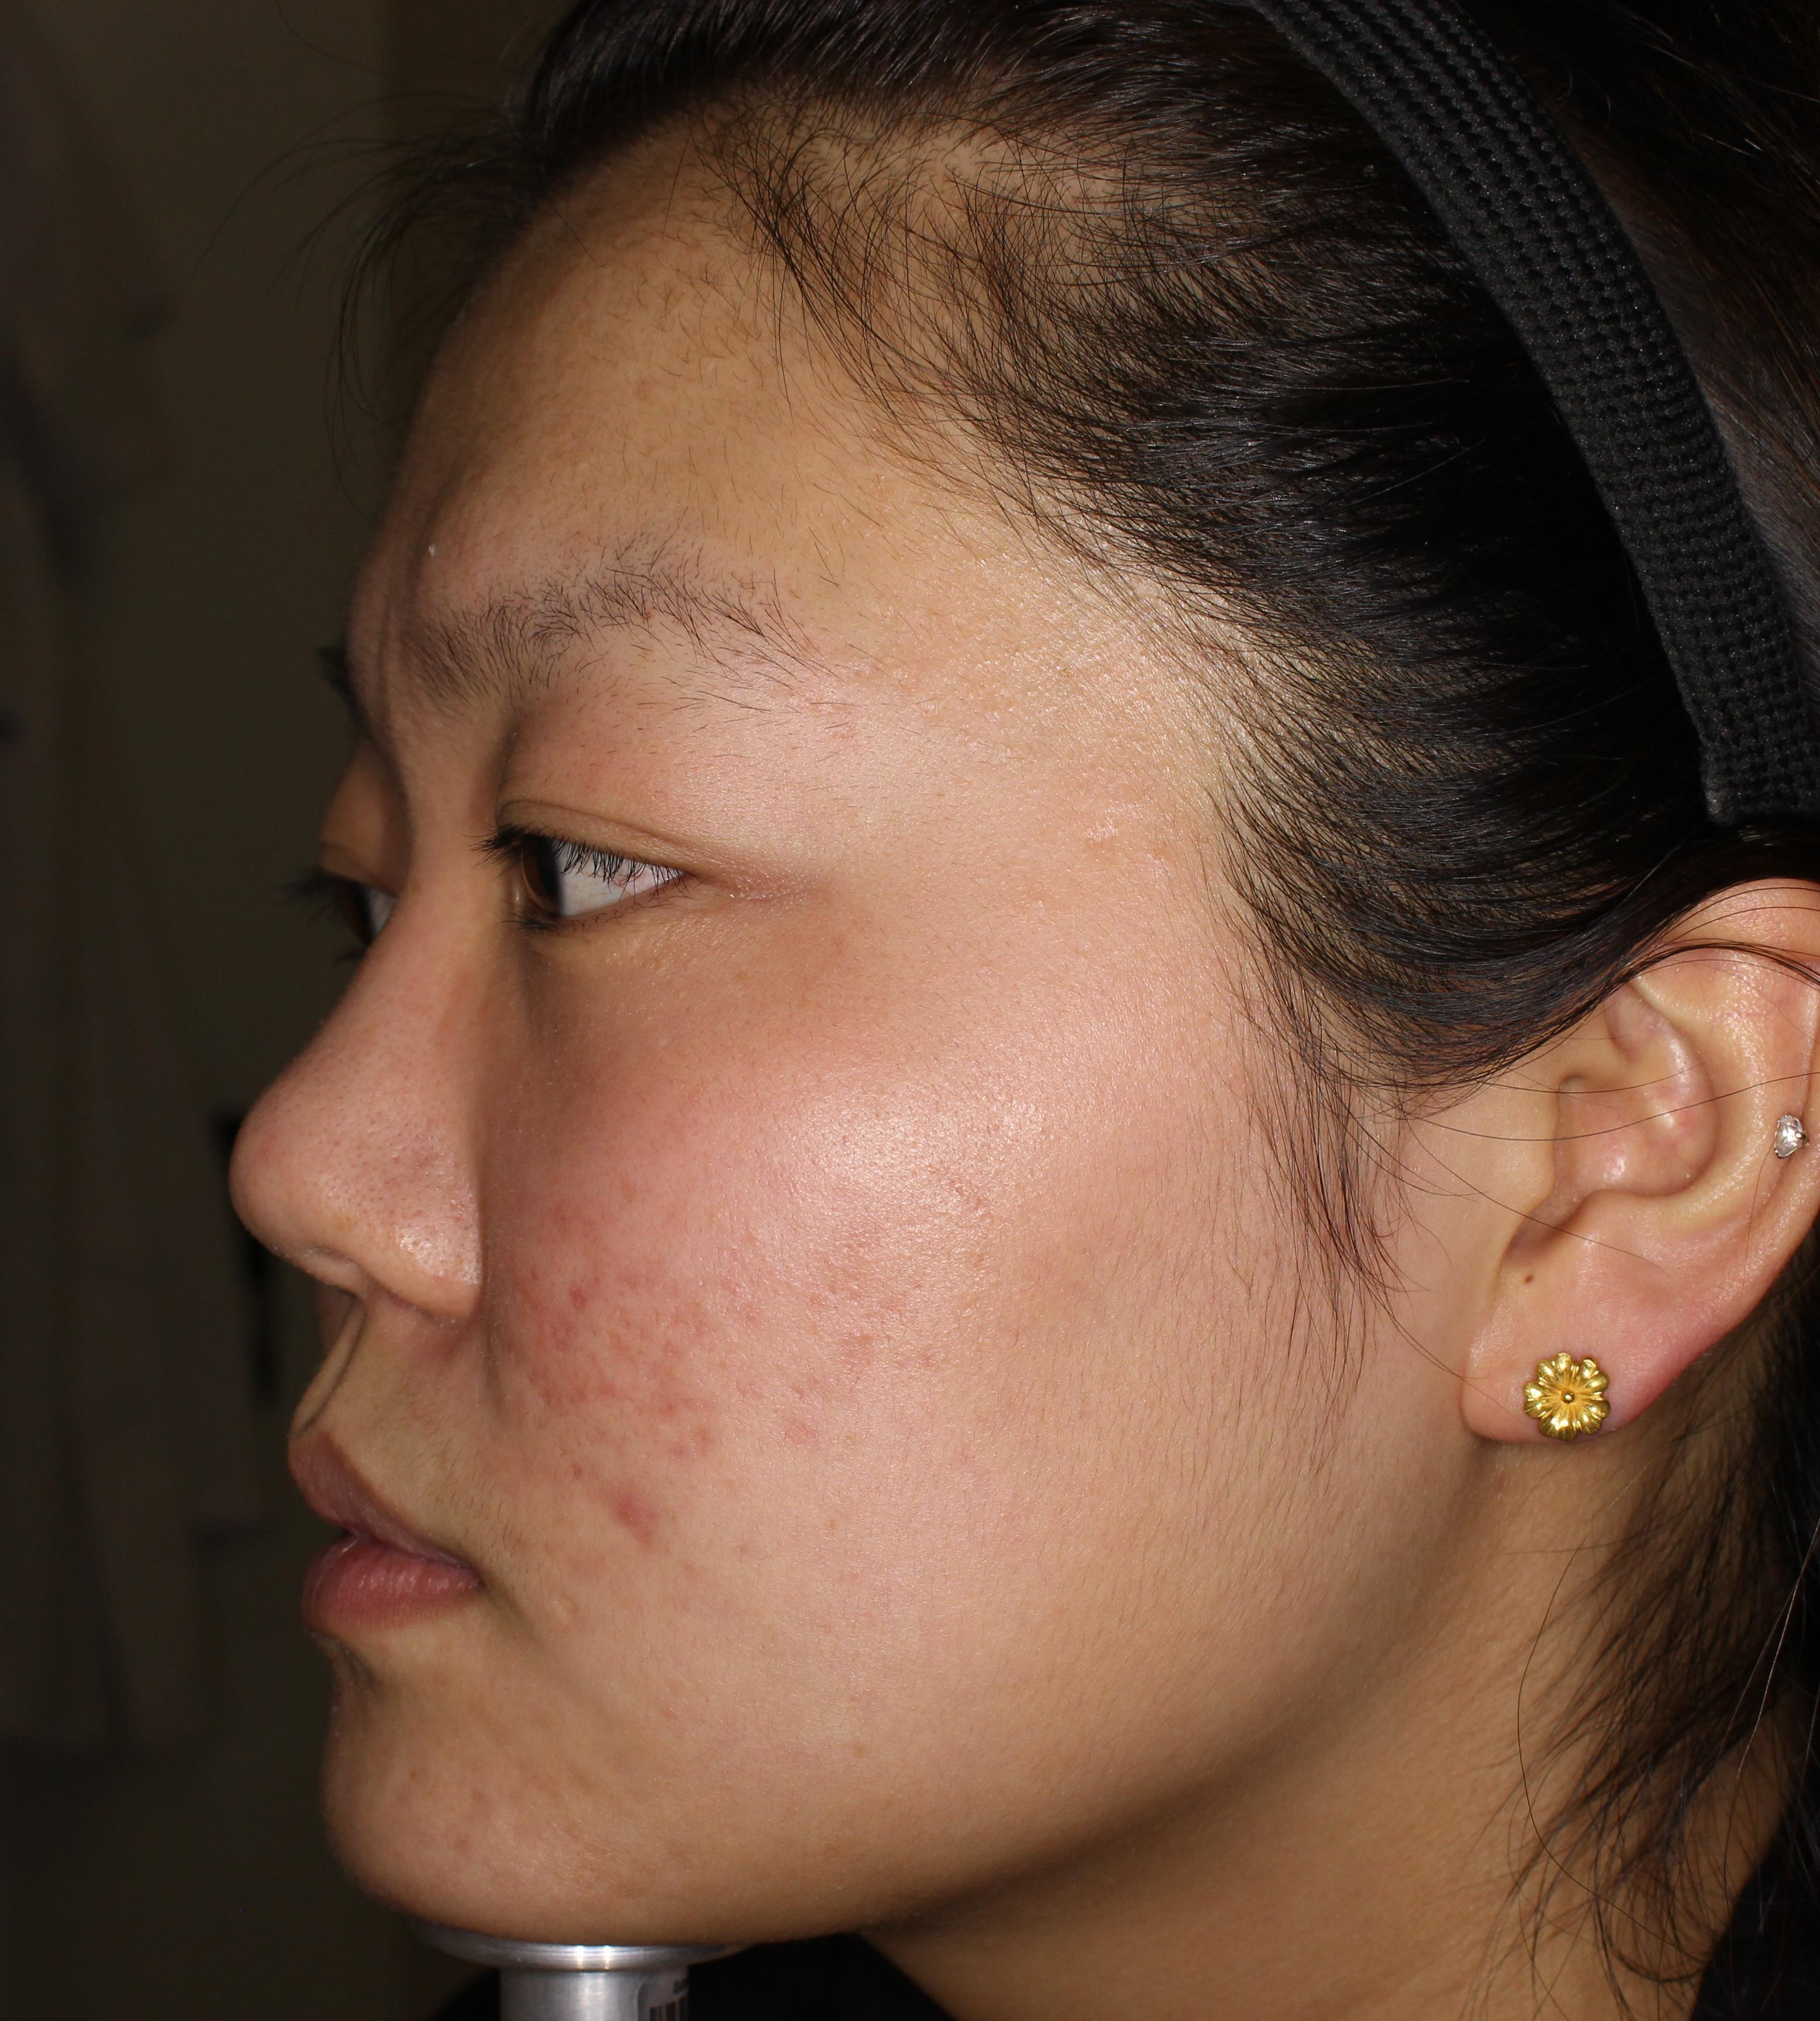fore: (543, 1257, 652, 1343), (603, 1468, 687, 1577), (646, 1375, 722, 1459), (499, 1356, 597, 1410)
